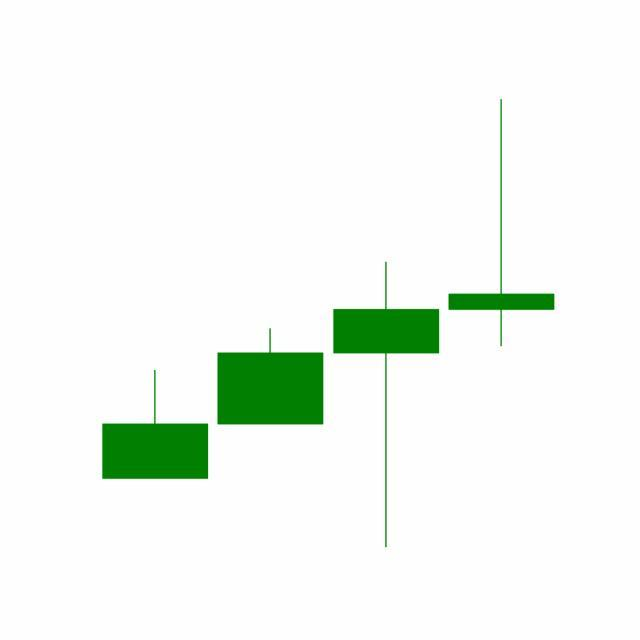Spinning Top: (444, 97, 560, 350)
